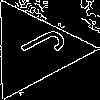J: (9, 24, 69, 70)
